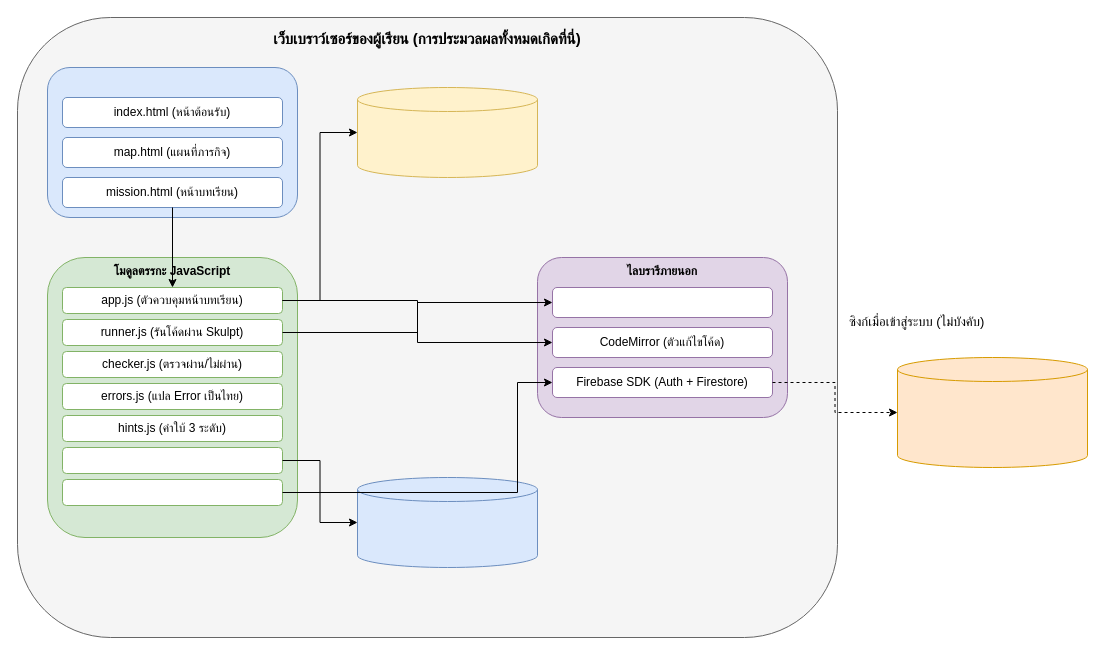
Some shapes in this 1105 by 655 pixel diagram are drawn without their labels. Each missing label, with the box of its shape:
auth.js + sync.js (บัญชี/ซิงก์): (62, 478, 282, 506)
data/missions.js เนื้อหาบทเรียน 21 ด่าน: (356, 86, 538, 178)
Firebase (Authentication + Cloud Firestore): (896, 356, 1088, 468)
localStorage (ที่เก็บหลักในเครื่อง): (356, 476, 538, 568)
progress.js (ความก้าวหน้า): (62, 446, 282, 474)
Skulpt (ตัวแปลภาษา Python): (552, 286, 772, 318)
หน้าเว็บ HTML: (46, 66, 298, 218)
